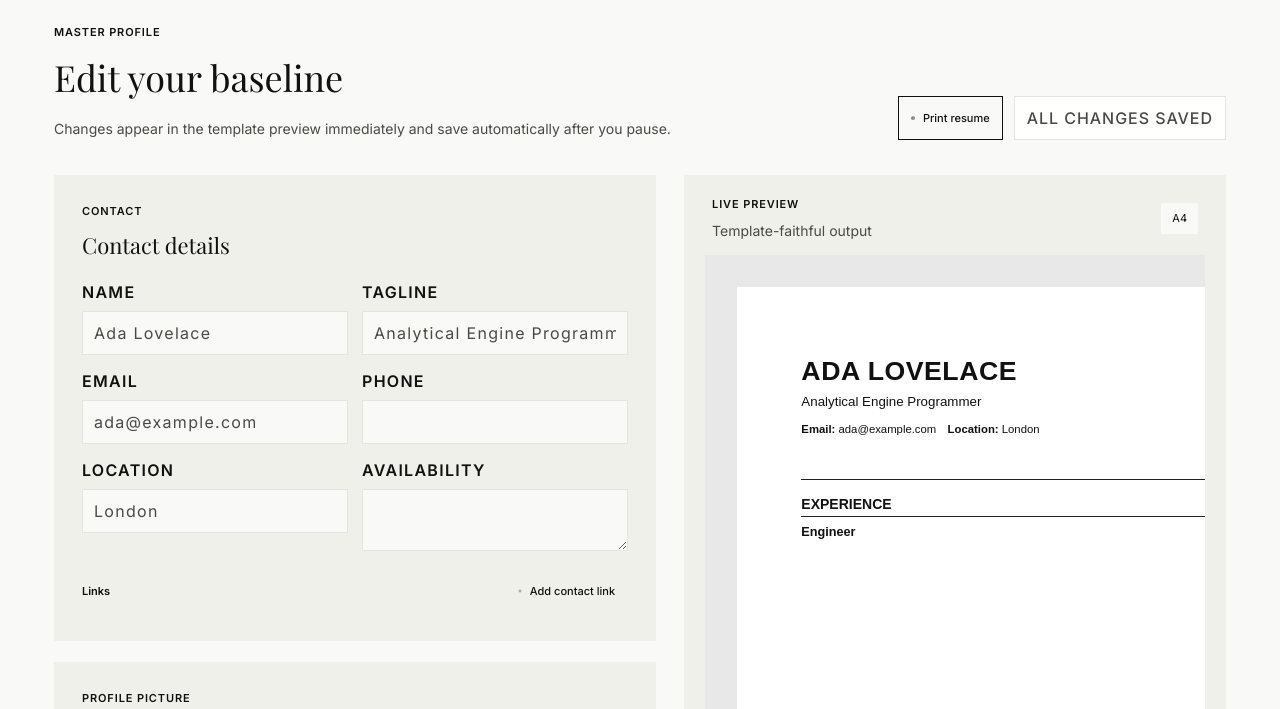
Test: MasterProfileEditor › updates Contact and Entry Fields in the live preview
Replace the text in the field labelled "Name" with "Grace Hopper": (215, 333) [82,311,348,355]
(page scrolled)
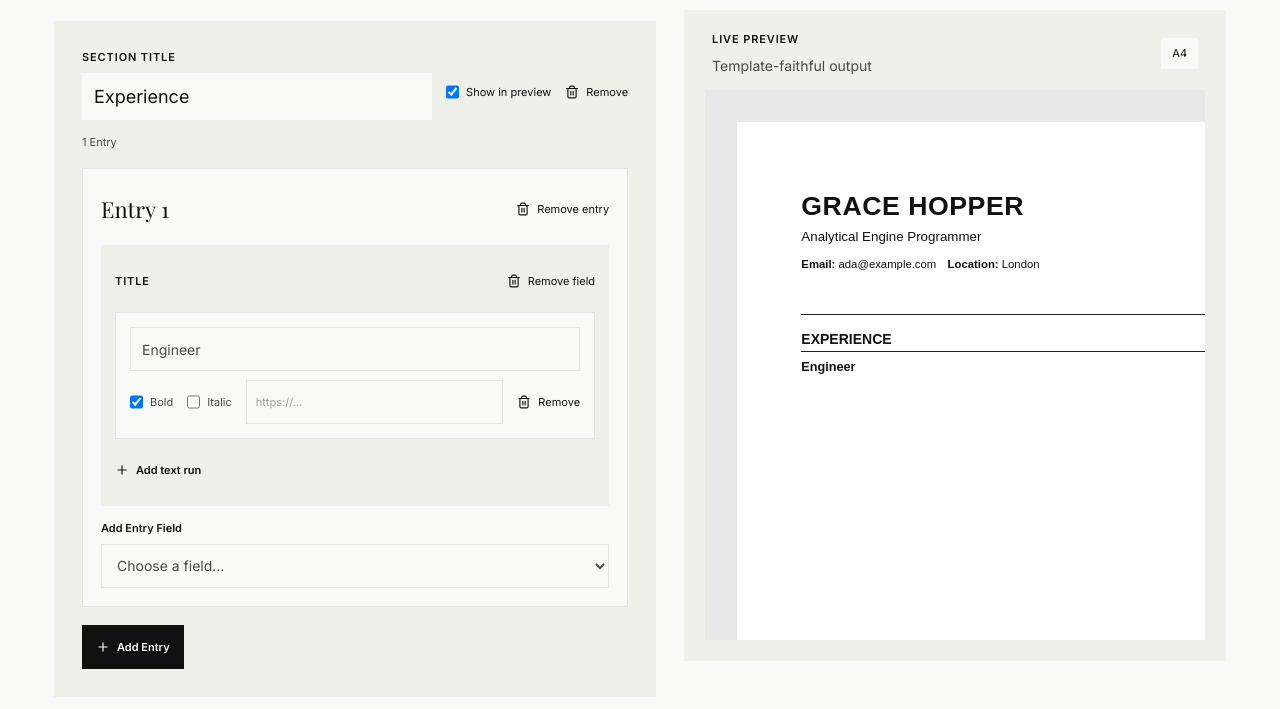
Replace the text in the field named "Experience entry 1 Title text run 1 text" with "Staff Engineer": (355, 349) [130,327,580,371]
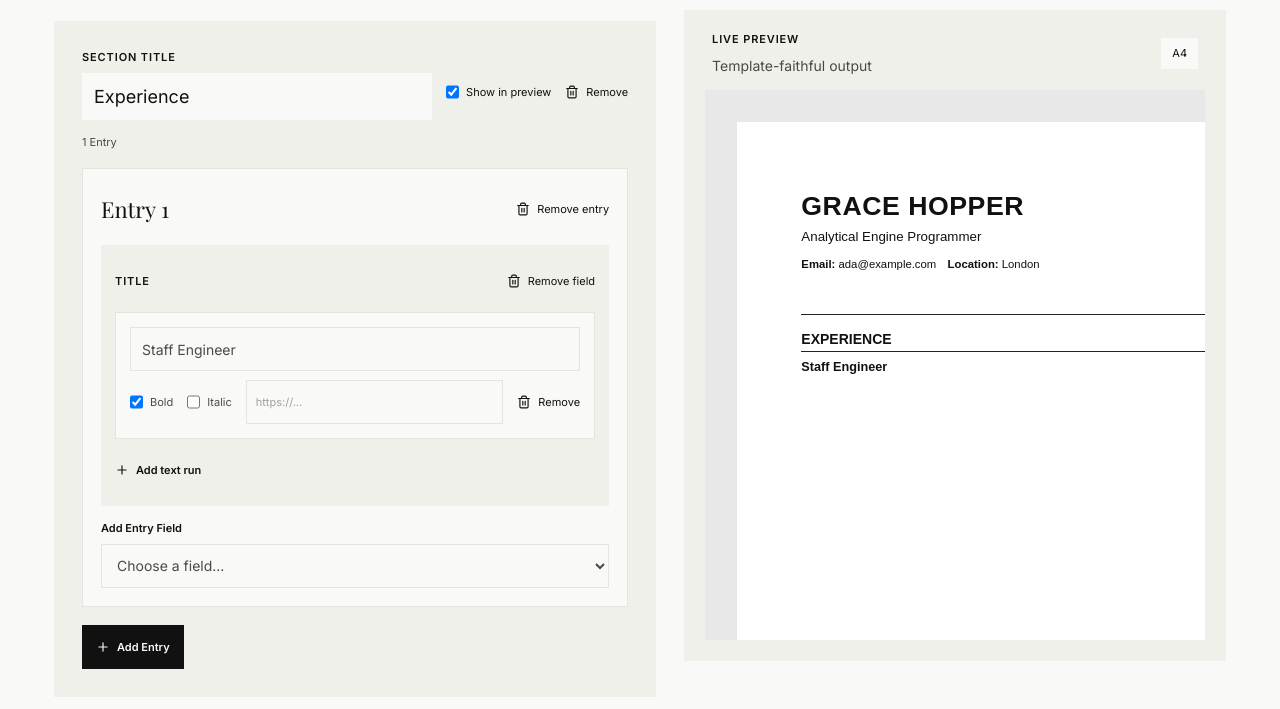
Check: the heading "Grace Hopper" is shown, box [801,190,1024,220]
Check: the text "Staff Engineer" is shown, box [801,359,887,373]
